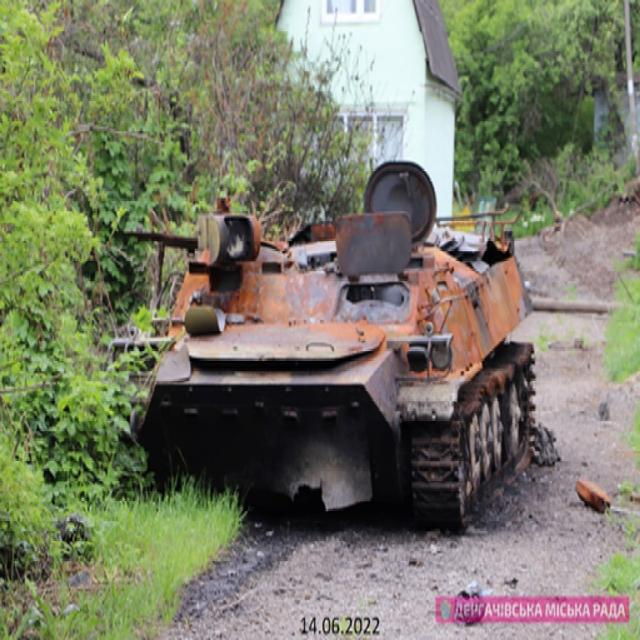APC-IFV: (118, 155, 540, 536)
